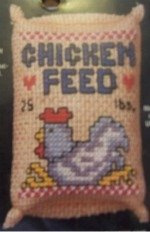feed_bag: (5, 2, 150, 231)
